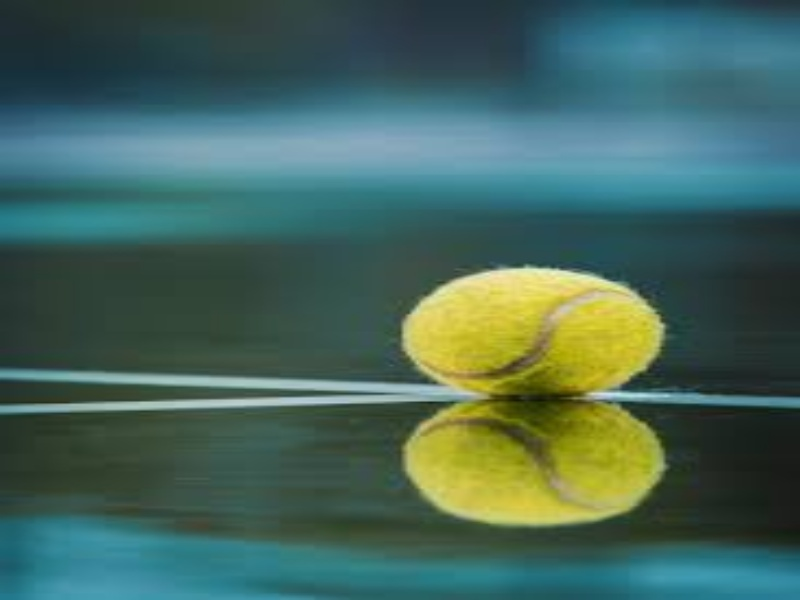tennis ball: (398, 254, 678, 409), (392, 394, 694, 531)
